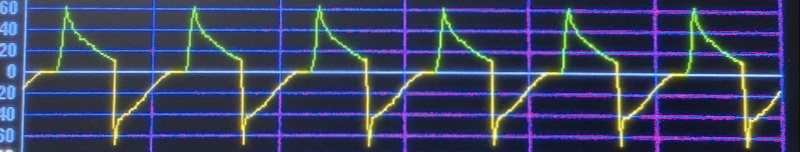normal_flow: (29, 2, 778, 152)
